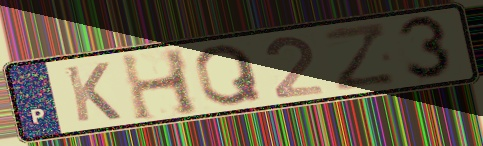2: (261, 34, 329, 101)
3: (395, 13, 457, 83)
H: (117, 46, 203, 124)
K: (61, 60, 125, 125)
Q: (192, 41, 266, 108)
Z: (321, 21, 400, 94)
